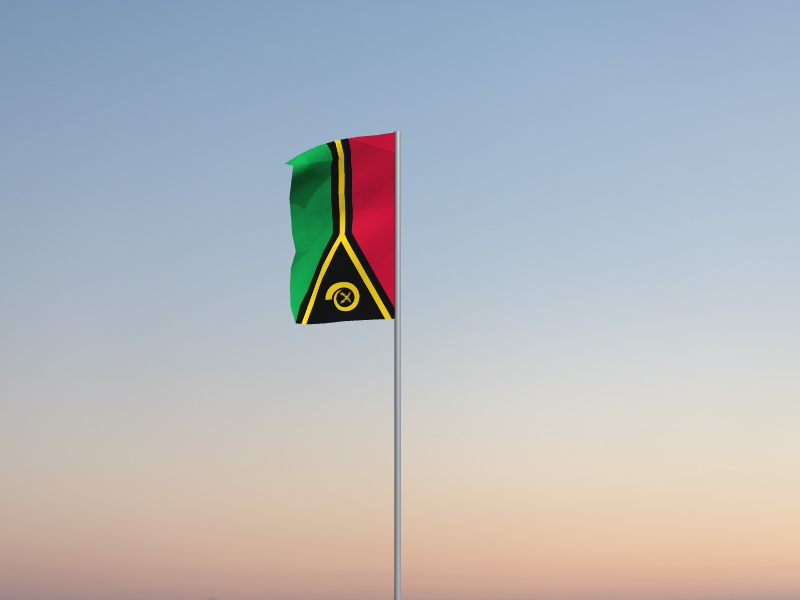vu: (285, 132, 395, 326)
